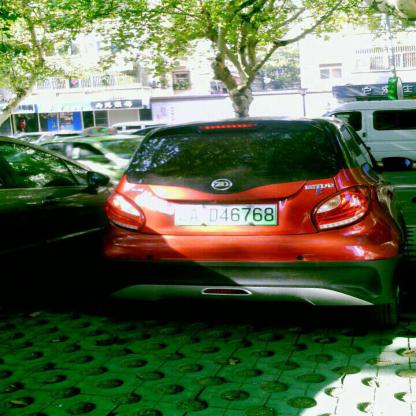lp: (173, 202, 277, 224)
